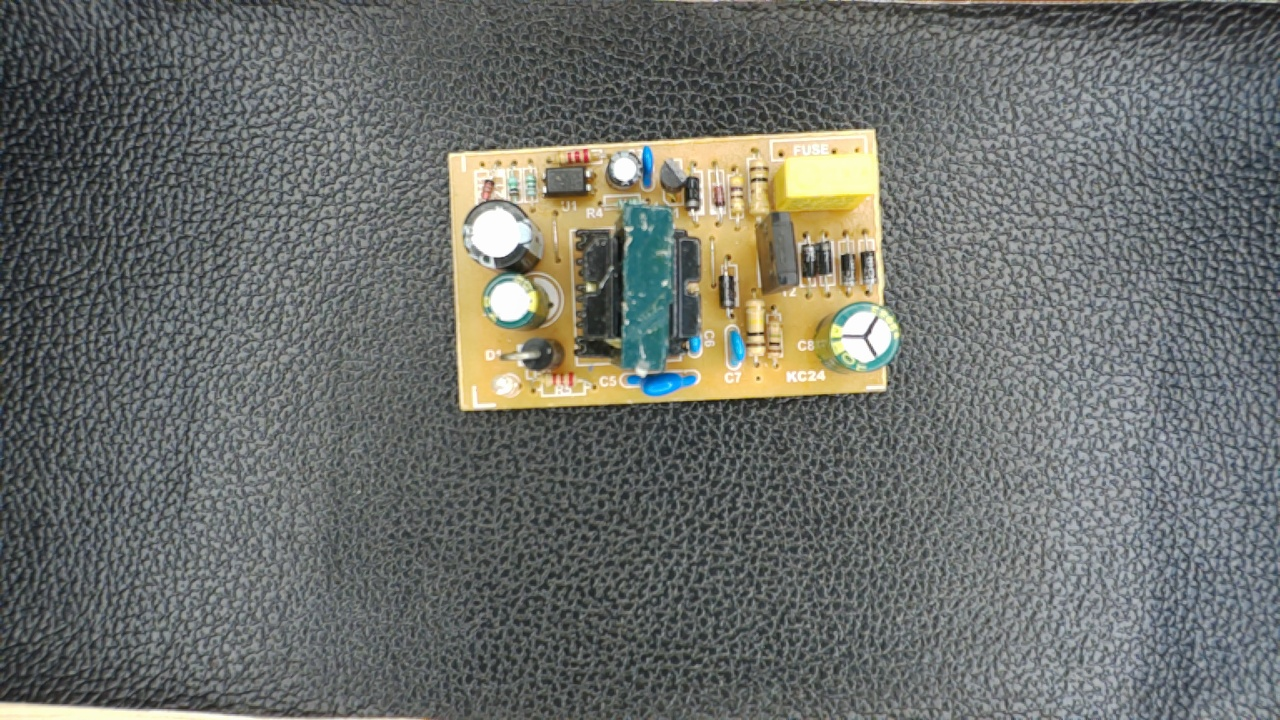hv_capacitor: (813, 299, 903, 377)
mov: (617, 366, 704, 396)
optocoupler: (534, 164, 596, 198)
